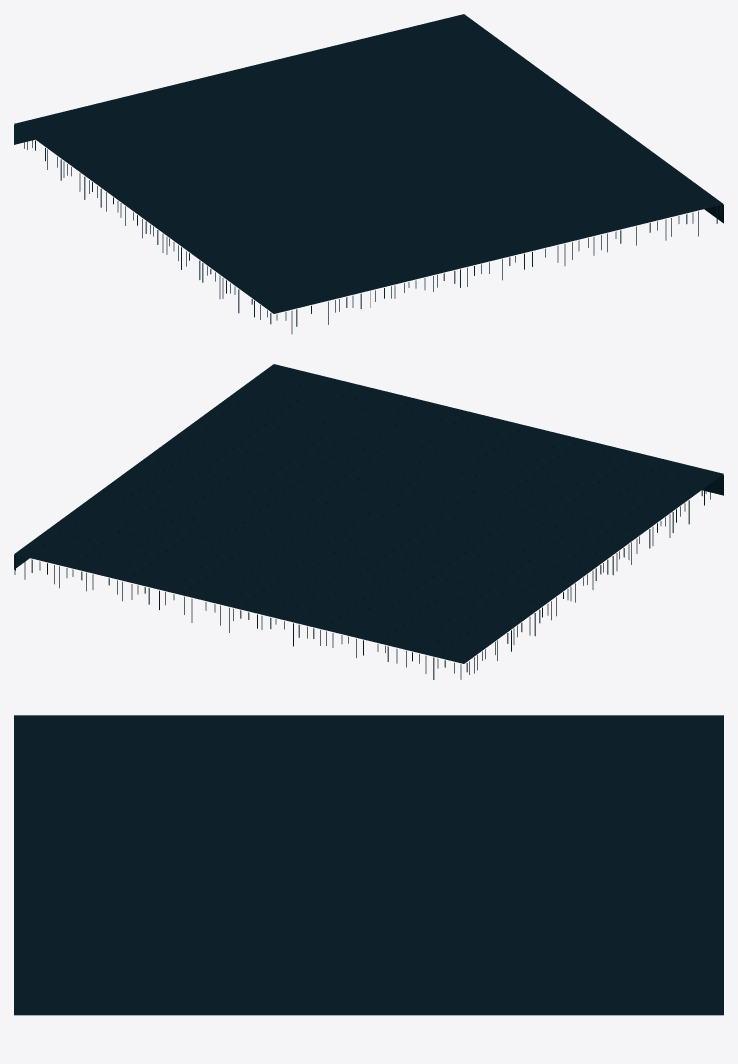
The model's file is floor_glass_16.glb.
3 views of the same model, one above another, from view 1: azimuth 30°, elevation 25°; view 2: azimuth 150°, elevation 25°; view 3: azimuth 270°, elevation 25° (orthographic). The views are drawn at different scales.
Parts seen in each view (by area): view 1: slab_glass, slab_seams, floor_glass_streaks_hang; view 2: slab_glass, slab_seams, floor_glass_streaks_hang; view 3: slab_glass.
Part boxes in pixels (x1,y1,x2,y2): slab_glass: [14, 14, 723, 313]; slab_seams: [43, 25, 694, 301]; floor_glass_streaks_hang: [16, 126, 721, 333]; slab_glass: [14, 364, 723, 663]; slab_seams: [43, 375, 694, 651]; floor_glass_streaks_hang: [14, 476, 721, 679]; slab_glass: [14, 715, 723, 1015].
Size of the model in its own units: 16.03 by 0.9327 by 16.
